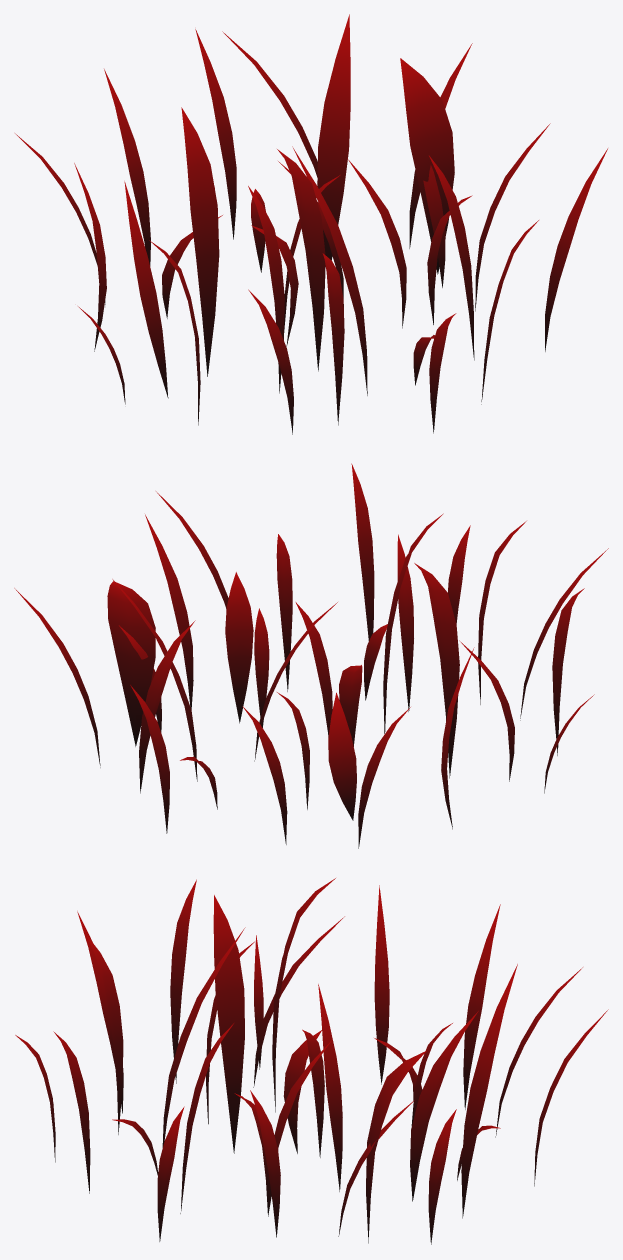
File: grass.fbx
3 renders of one model, top to bottom at view 1: azimuth 30°, elevation 25°; view 2: azimuth 150°, elevation 25°; view 3: azimuth 270°, elevation 25°, orthographic. The views are drawn at different scales.
Visible parts, largest first — view 1: Grass; view 2: Grass; view 3: Grass.
Boxes of the visible parts, x1=… form: Grass: x1=15, y1=14, x2=607, y2=434; Grass: x1=14, y1=463, x2=608, y2=848; Grass: x1=15, y1=878, x2=608, y2=1244.
Bounding box in the file's own units: 3.17 × 1.5 × 3.38.
